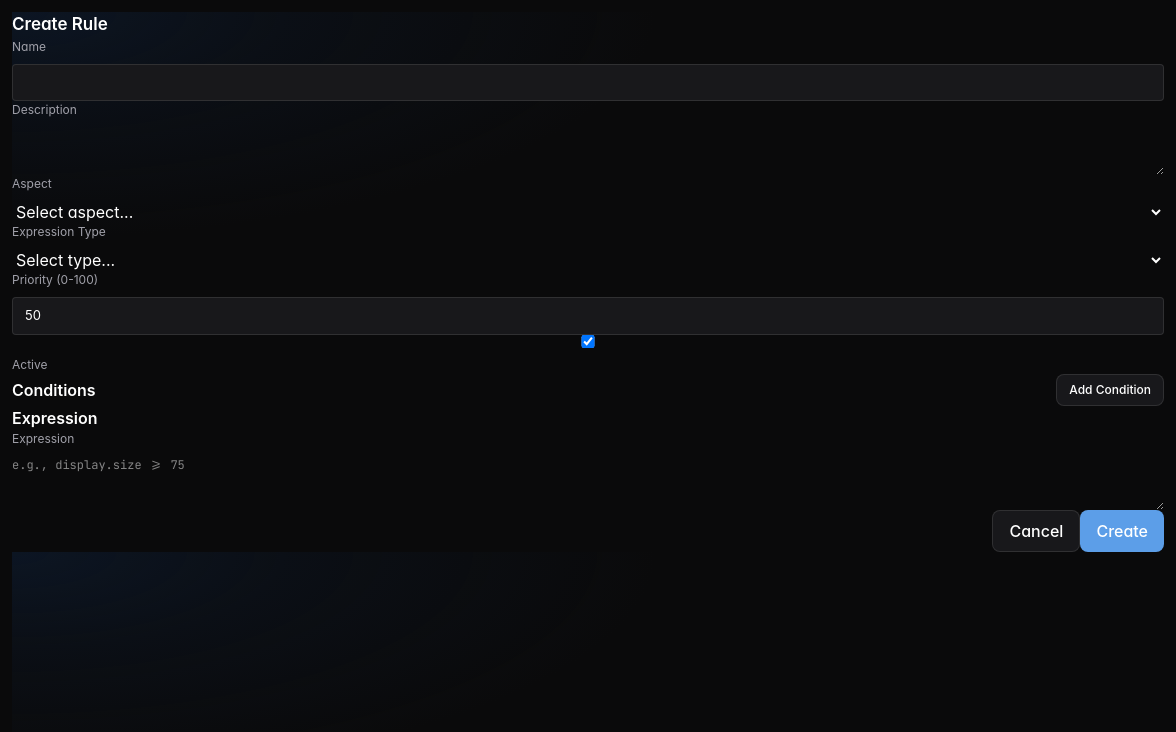
Test: RuleEditor › Validation › shows error for missing conditions
// Fill basic fields but no conditions
Type "Test Rule" into the field labelled "Name" at (588,82), box left=12, top=64, right=1164, bottom=101
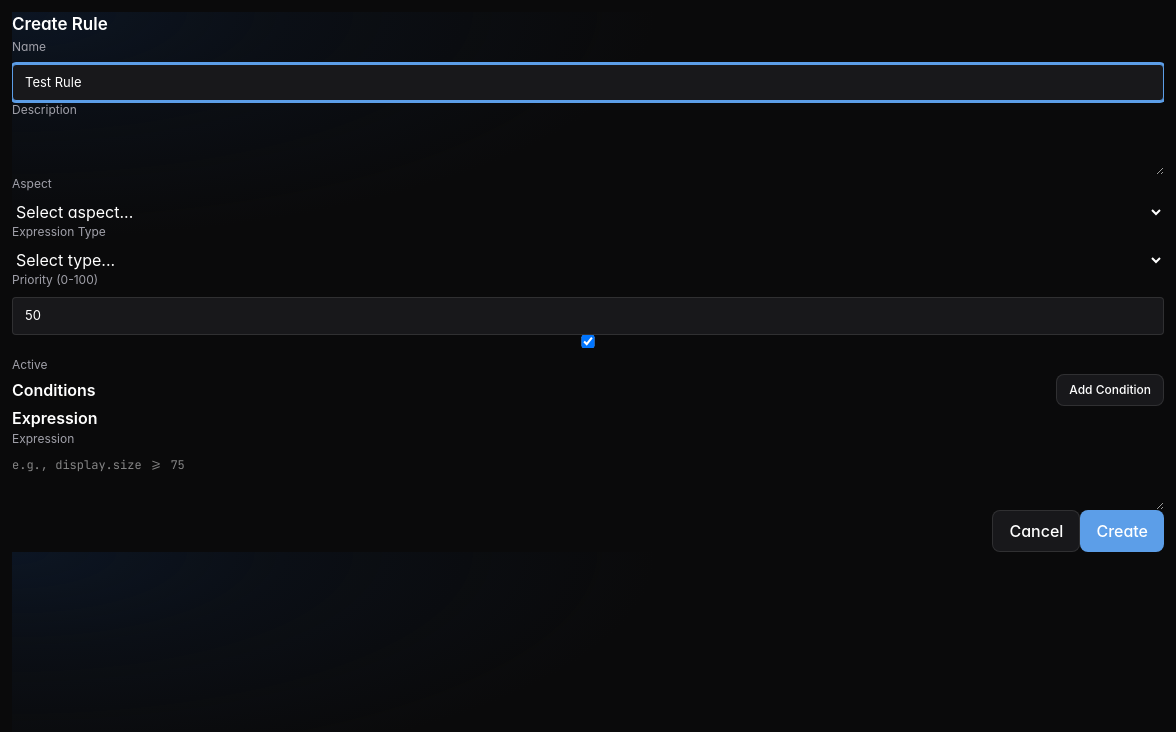
Type "A test rule" into the text box labelled "Description" at (588,151), box left=12, top=127, right=1164, bottom=175
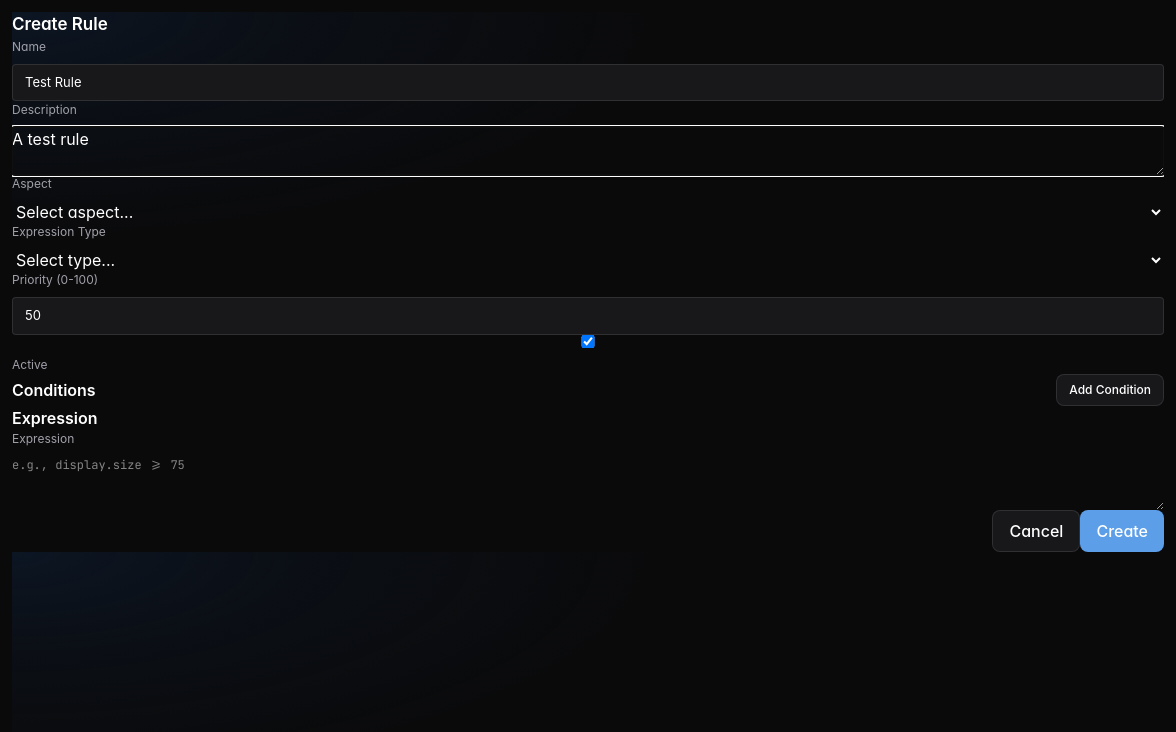
Select "Equipment Selection" in the dropdown labelled "Aspect" at (588,212), box left=12, top=201, right=1164, bottom=223
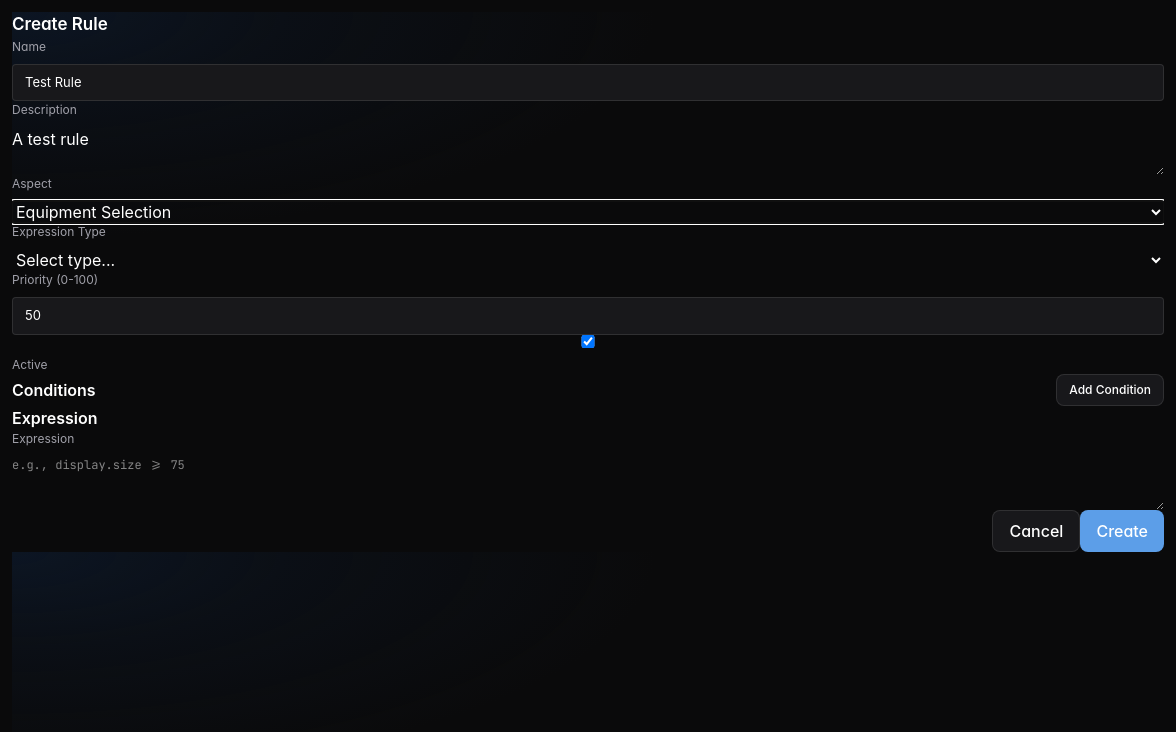
Select "Constraint" in the dropdown labelled "Expression Type" at (588,260), box left=12, top=249, right=1164, bottom=271
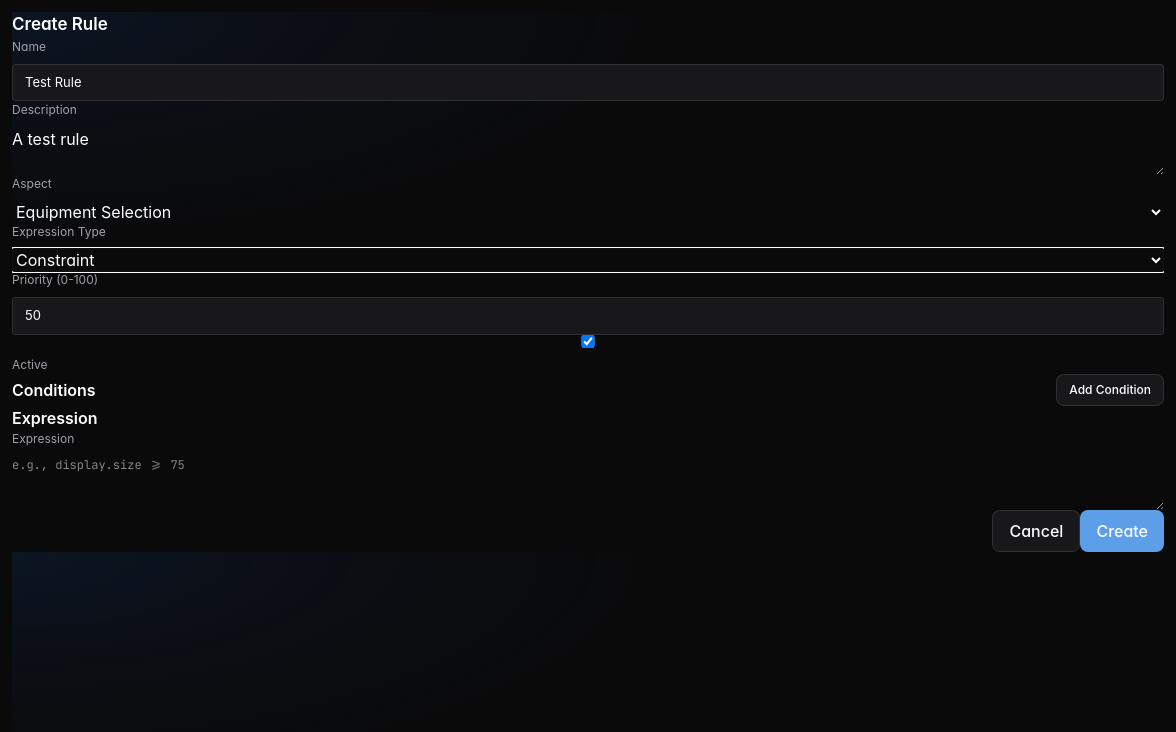
Type "test == true" into the text box labelled "Expression" at (588,482), box left=12, top=456, right=1164, bottom=510
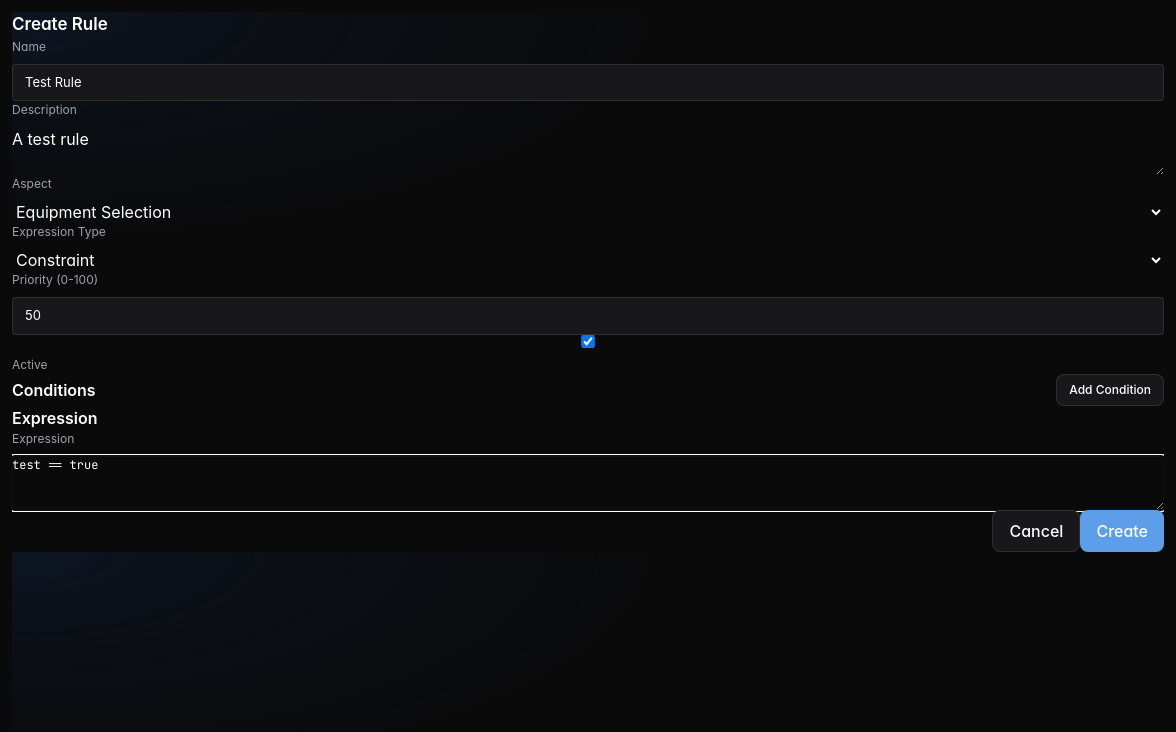
Click the button "Create" at (1122,530), box left=1080, top=510, right=1164, bottom=552
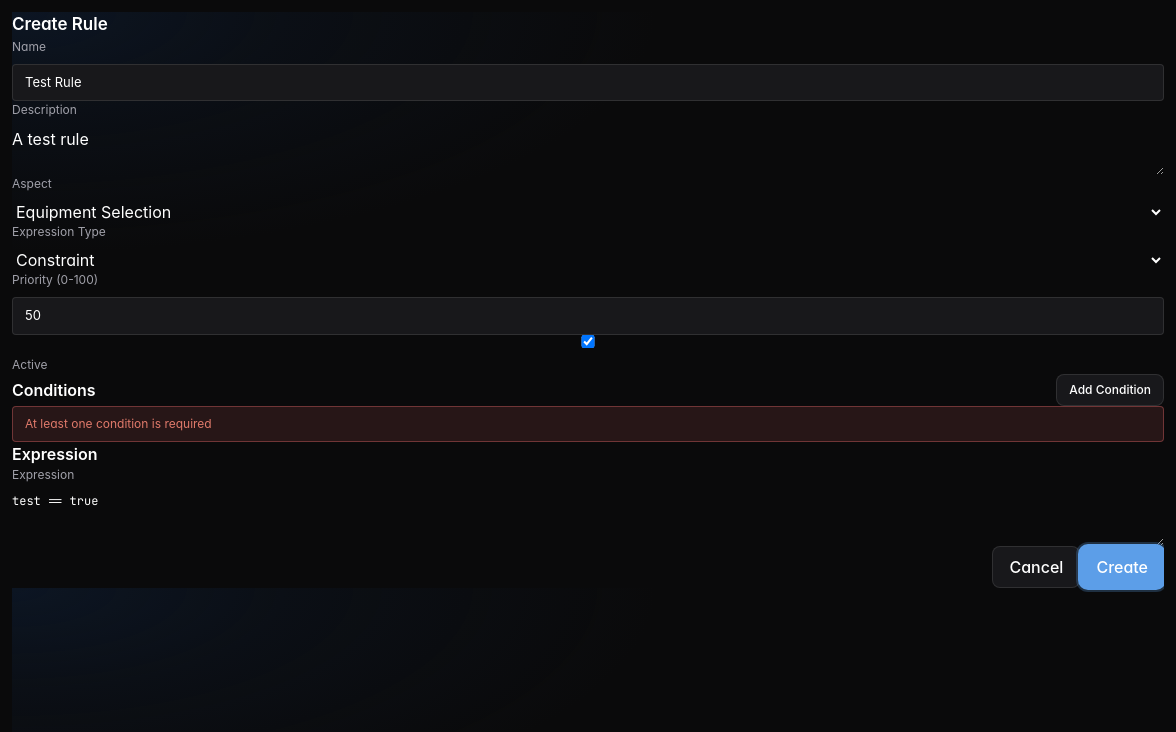
Check: the text "At least one condition is required" is shown, box left=12, top=406, right=1164, bottom=442
